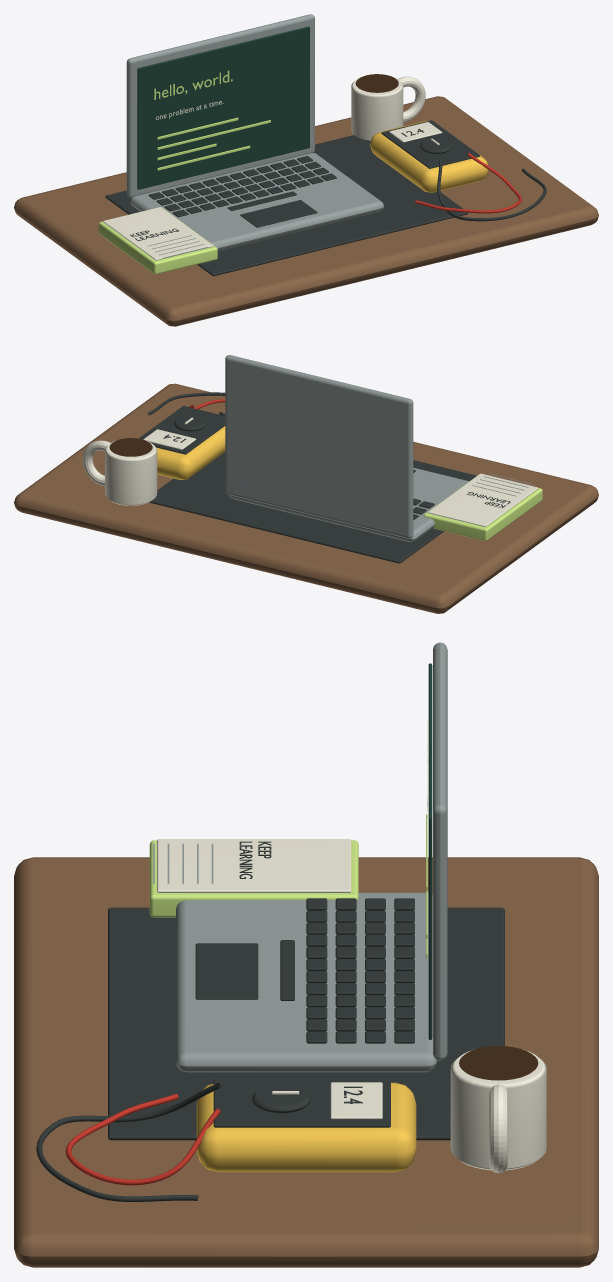
File: workbench.glb
3 views of the same model, one above another, from view 1: azimuth 30°, elevation 25°; view 2: azimuth 150°, elevation 25°; view 3: azimuth 270°, elevation 25° (orthographic). The views are drawn at different scales.
Visible parts, largest first — view 1: Desk, Display, Desk mat, Laptop base, Screen frame, Paper, Meter shell, Mug, Notebook, Meter face, Trackpad, Black test lead (+4 smaller); view 2: Desk, Screen frame, Desk mat, Paper, Mug, Laptop base, Meter shell, Notebook, Meter face, Coffee surface, Mug handle, LCD (+1 smaller); view 3: Desk, Desk mat, Laptop base, Meter shell, Paper, Mug, Screen frame, Meter face, Trackpad, Notebook, Black test lead, Coffee surface (+6 smaller).
Boxes of the visible parts, bbox=[...] form: Desk: bbox=[14, 96, 598, 326]; Display: bbox=[137, 26, 309, 189]; Desk mat: bbox=[105, 135, 468, 276]; Laptop base: bbox=[130, 153, 384, 250]; Screen frame: bbox=[126, 14, 314, 197]; Paper: bbox=[103, 207, 213, 260]; Meter shell: bbox=[370, 120, 488, 192]; Mug: bbox=[351, 76, 403, 140]; Notebook: bbox=[98, 207, 217, 274]; Meter face: bbox=[381, 120, 479, 168]; Trackpad: bbox=[240, 200, 317, 227]; Black test lead: bbox=[437, 160, 546, 221]; Desk: bbox=[14, 383, 598, 613]; Screen frame: bbox=[225, 355, 413, 538]; Desk mat: bbox=[149, 452, 476, 563]; Paper: bbox=[428, 473, 538, 526]; Mug: bbox=[105, 440, 157, 505]; Laptop base: bbox=[229, 467, 468, 542]; Meter shell: bbox=[156, 426, 225, 479]; Notebook: bbox=[423, 474, 542, 540]; Meter face: bbox=[139, 406, 225, 454]; Coffee surface: bbox=[109, 438, 152, 456]; Mug handle: bbox=[82, 440, 110, 486]; LCD: bbox=[143, 429, 196, 449]; Desk: bbox=[14, 857, 598, 1267]; Desk mat: bbox=[108, 907, 504, 1140]; Laptop base: bbox=[176, 892, 436, 1072]; Meter shell: bbox=[196, 1082, 416, 1172]; Paper: bbox=[157, 839, 351, 892]; Mug: bbox=[450, 1049, 546, 1170]; Screen frame: bbox=[433, 642, 447, 1060]; Meter face: bbox=[213, 1079, 390, 1127]; Trackpad: bbox=[195, 943, 258, 999]; Notebook: bbox=[149, 840, 358, 917]; Black test lead: bbox=[36, 1083, 220, 1201]; Coffee surface: bbox=[459, 1046, 538, 1080].
Size of the model in its own units: 4.4 by 1.65 by 2.8.
